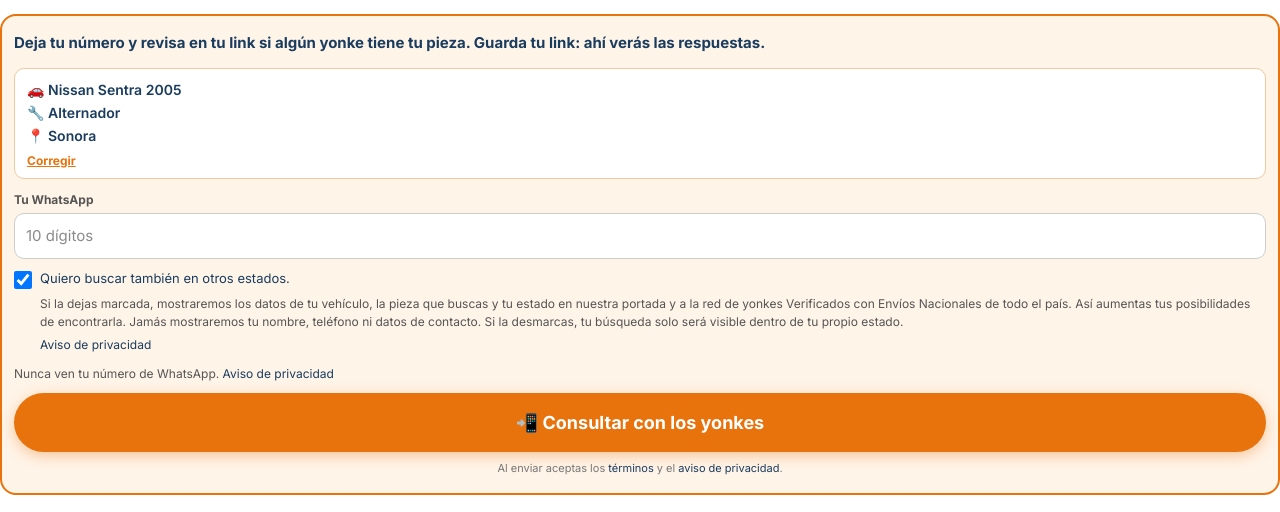
modo número (bandera encendida) › confirmación: el texto nuevo, el enlace y "Guardar mi enlace por WhatsApp"; sin "alerta" ni "la ven"
Type "6641234567" into the field labelled "Tu WhatsApp" at x=640, y=236, box top-left (14, 213), bottom-right (1266, 259)
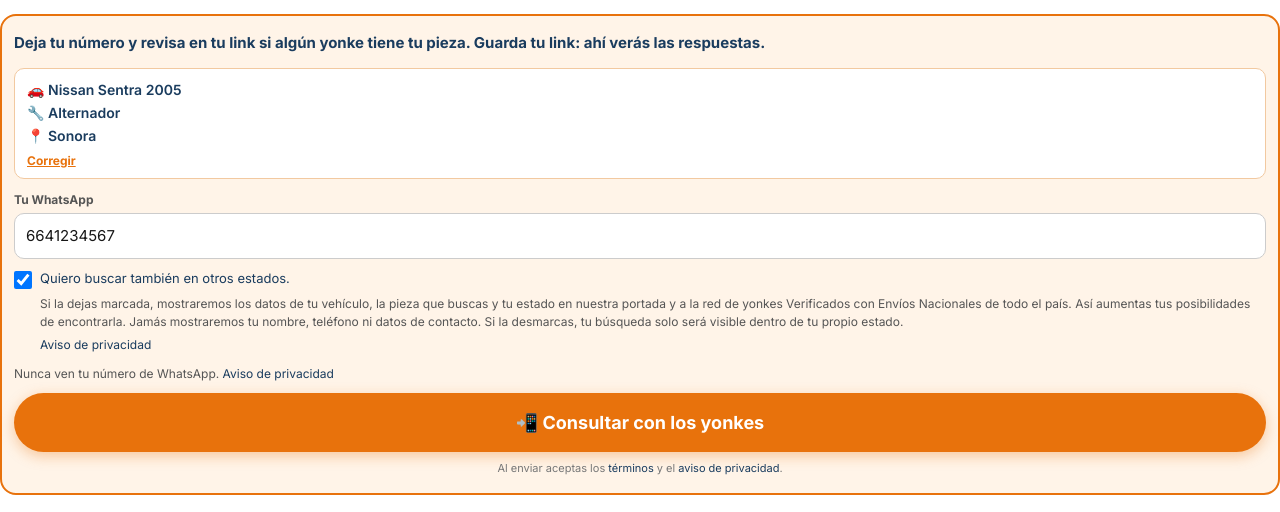
Click the button "📲 Consultar con los yonkes" at x=640, y=423, box top-left (14, 393), bottom-right (1266, 452)
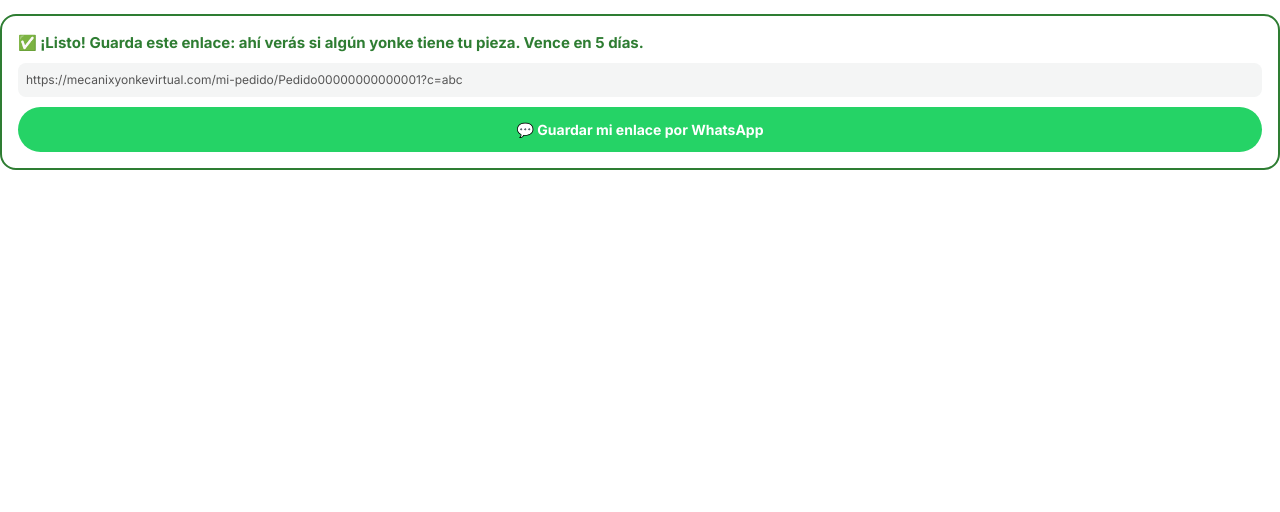
Check: the text "✅ ¡Listo! Guarda este enlace: ahí verás si algún yonke tiene tu pieza. Vence en 5 días." is shown, box top-left (18, 33), bottom-right (644, 52)
Check: the link "💬 Guardar mi enlace por WhatsApp" is shown, box top-left (18, 107), bottom-right (1262, 152)
